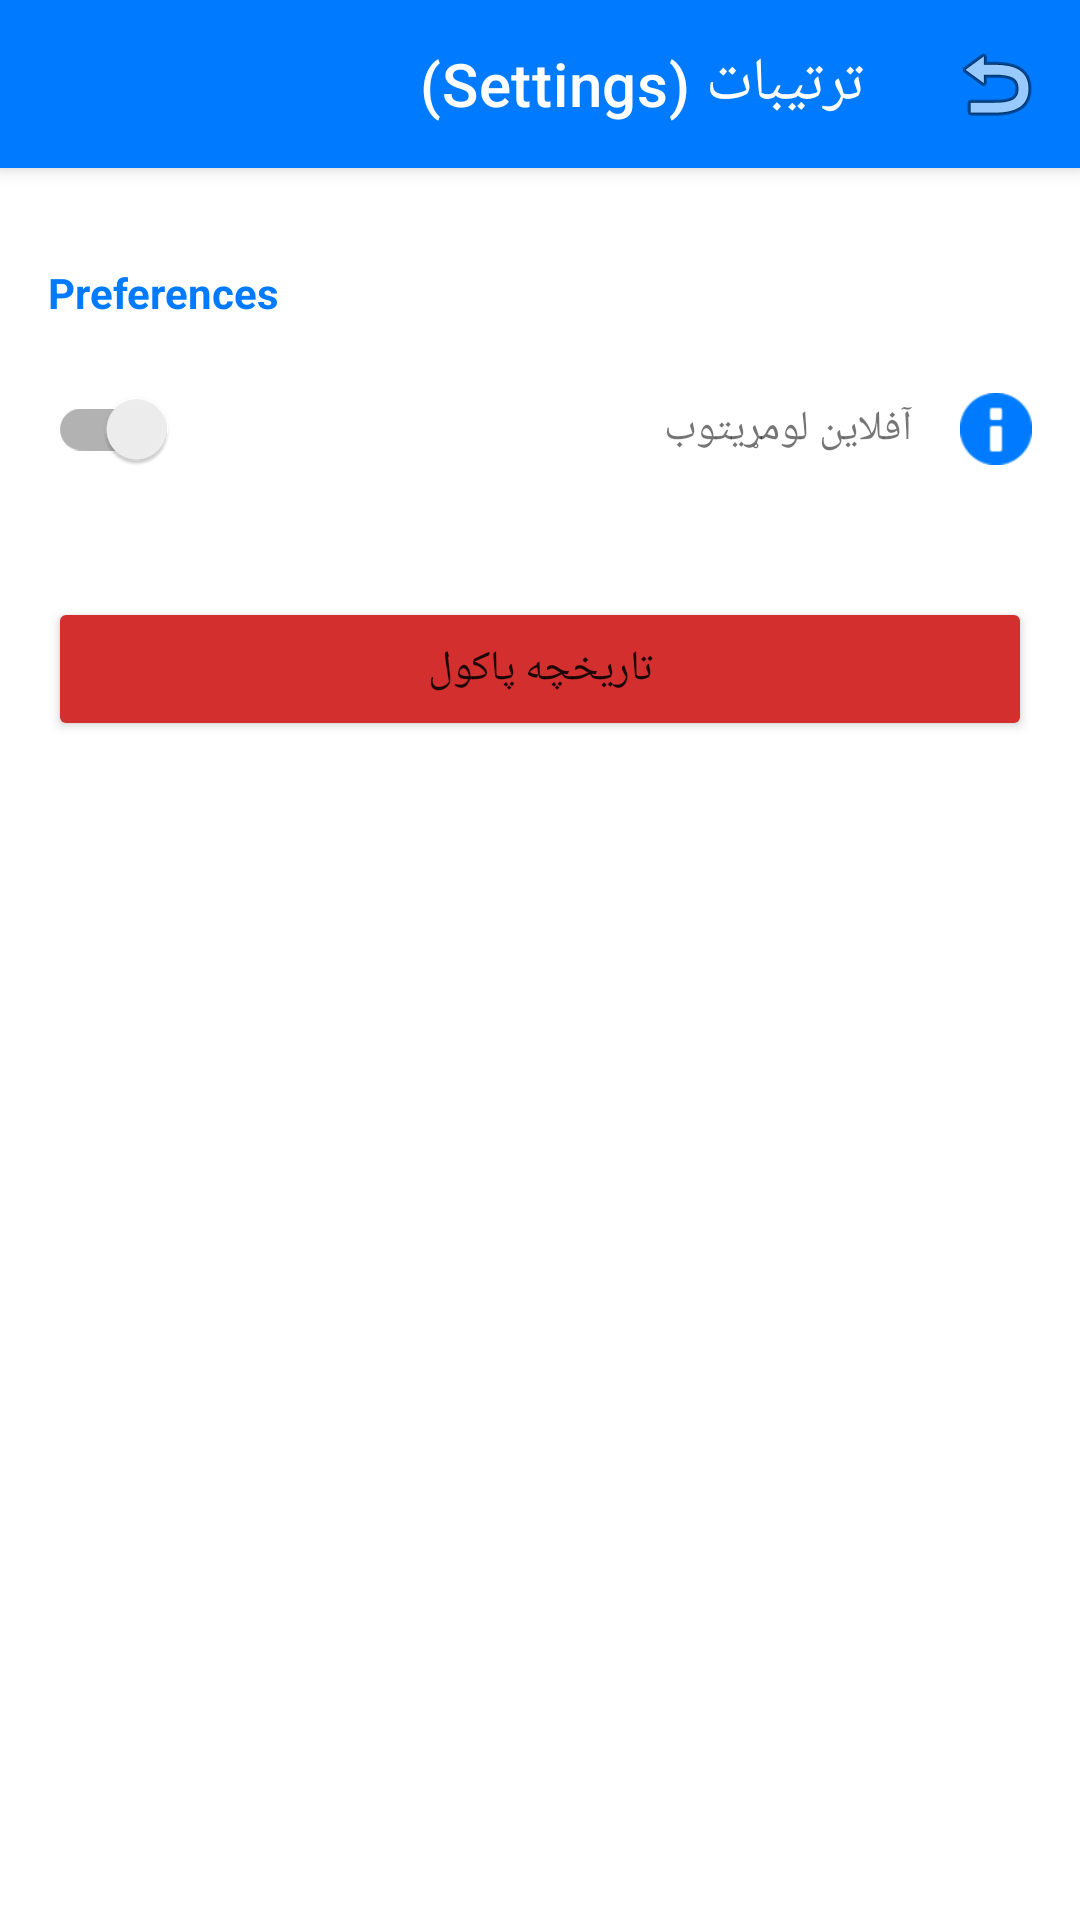

Point at icon controls on the screen. Image size 1080x1920, points as (x,y).
info: (996,429)
